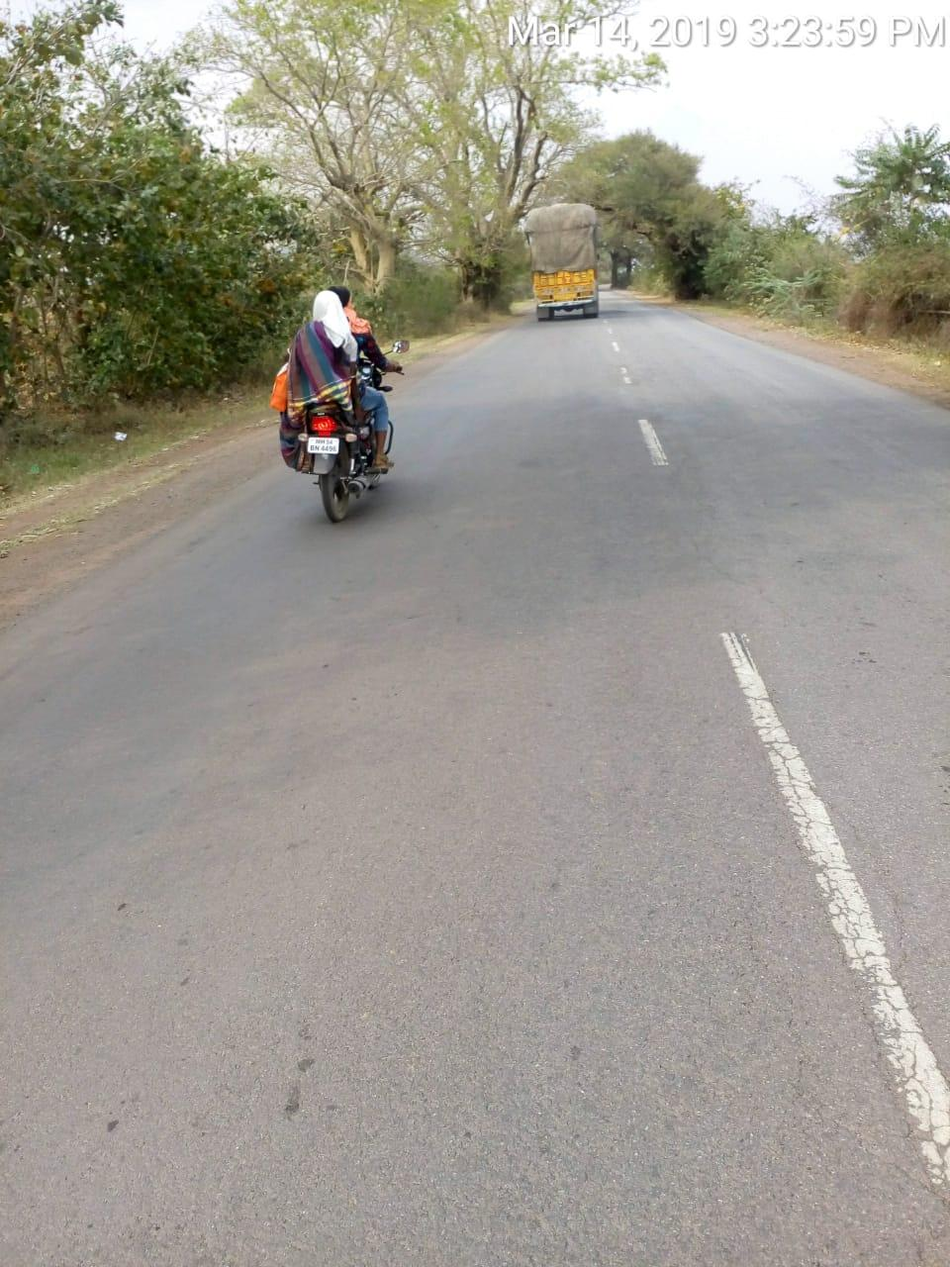plate: (302, 434, 344, 456)
